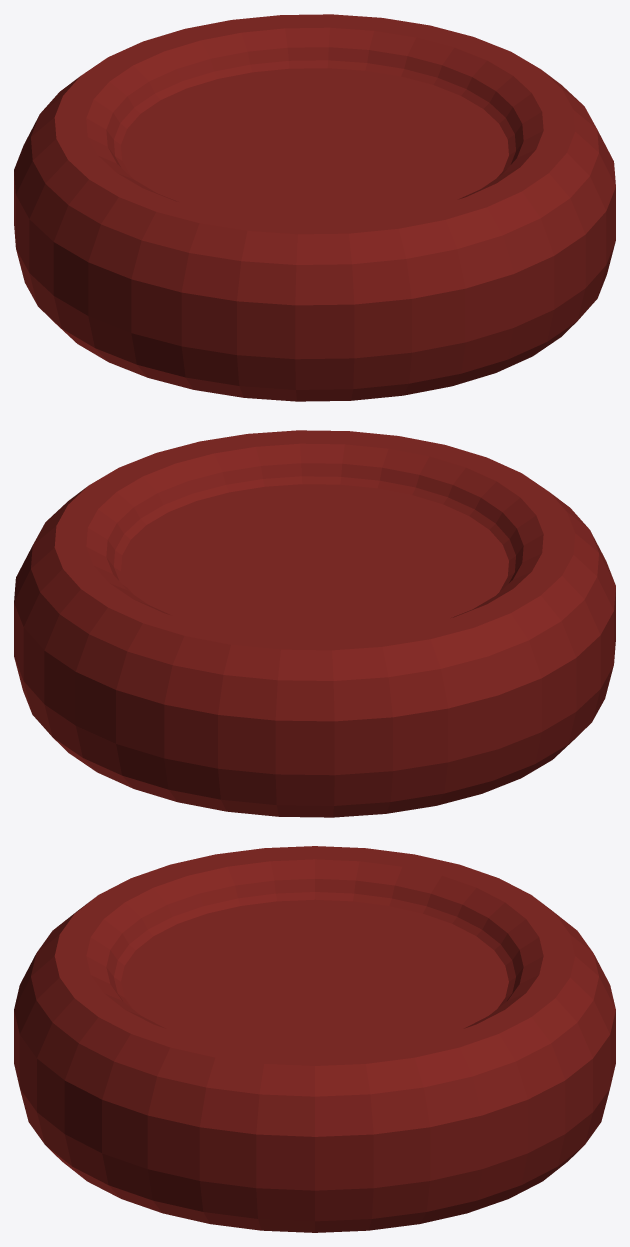
Rendered from Red.fbx.
3 views of the same model, one above another, from view 1: azimuth 30°, elevation 25°; view 2: azimuth 150°, elevation 25°; view 3: azimuth 270°, elevation 25° (orthographic).
Parts seen in each view (by area): view 1: Cylinder.002; view 2: Cylinder.002; view 3: Cylinder.002.
Part boxes in pixels (x1,y1,x2,y2): Cylinder.002: (14,14,615,401); Cylinder.002: (14,430,615,817); Cylinder.002: (14,846,615,1232).
Size of the model in its own units: 169 by 50 by 169.
